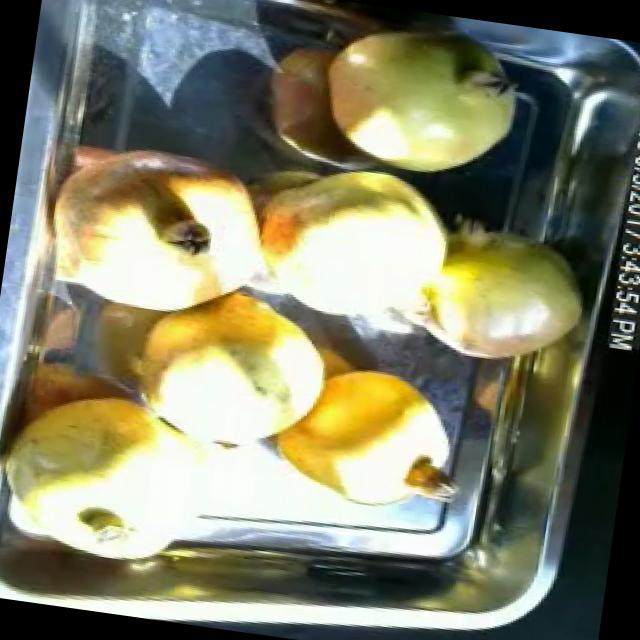fruit: (103, 261, 356, 489), (30, 122, 284, 344), (235, 148, 478, 347), (0, 368, 228, 580), (304, 4, 538, 192), (262, 345, 470, 526), (396, 206, 602, 381)
